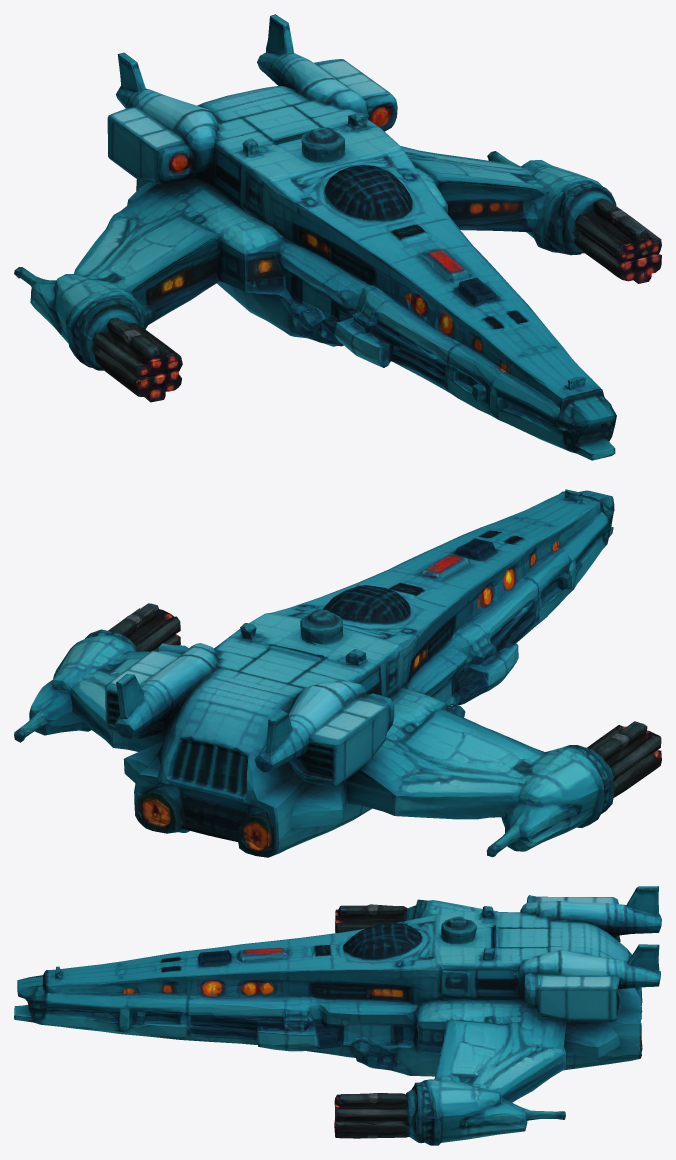
File: Gattler Frigate.glb
3 views of the same model, one above another, from view 1: azimuth 30°, elevation 25°; view 2: azimuth 150°, elevation 25°; view 3: azimuth 270°, elevation 25° (orthographic). The views are drawn at different scales.
Parts seen in each view (by area): view 1: world; view 2: world; view 3: world.
Boxes of the visible parts, box(x1,y1,x2,y2) form: world: box(14, 14, 661, 460); world: box(14, 489, 661, 857); world: box(14, 886, 661, 1145).
Size of the model in its own units: 0.7582 by 0.231 by 0.9951.
Materials: 1 (1 with a texture image).
